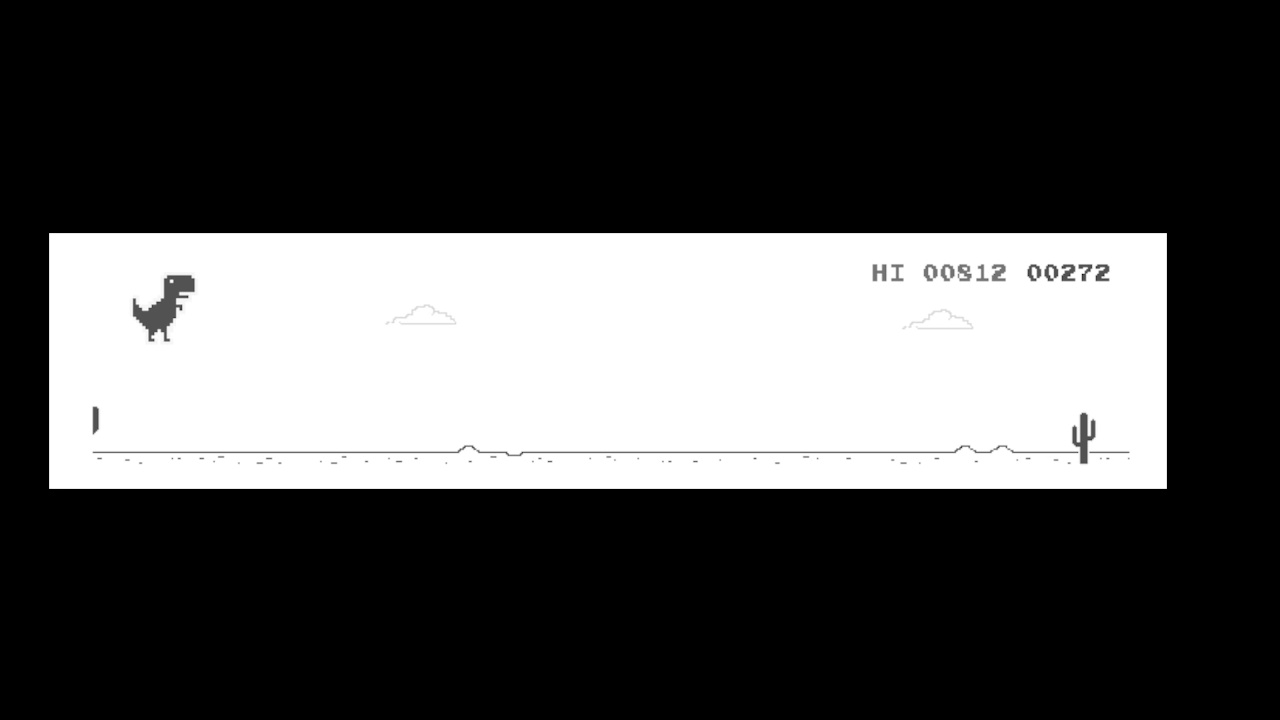dino: (134, 272, 195, 342)
small1: (1067, 411, 1102, 465)
